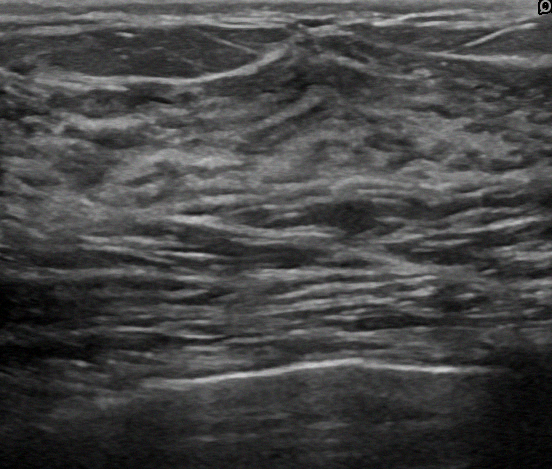Normal: (4, 3, 541, 467)
